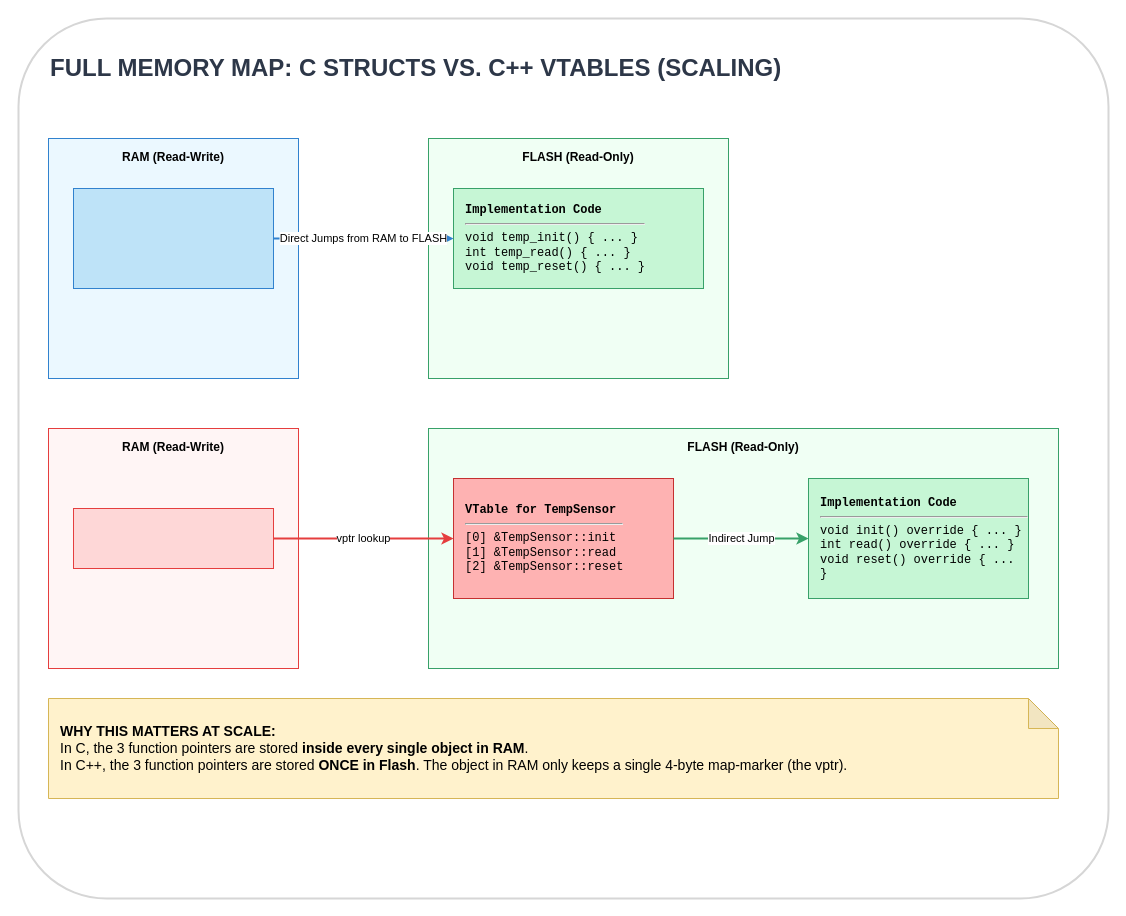
Some shapes in this 1126 by 916 pixel diagram are drawn without their labels. Each missing label, with the centre of its shape:
"SensorInstance (C Struct) init_ptr (4B) read_ptr (4B) reset_ptr (4B)" goes at point 173,238.
"TempSensor (C++ Object) vptr (4B)" goes at point 173,538.
